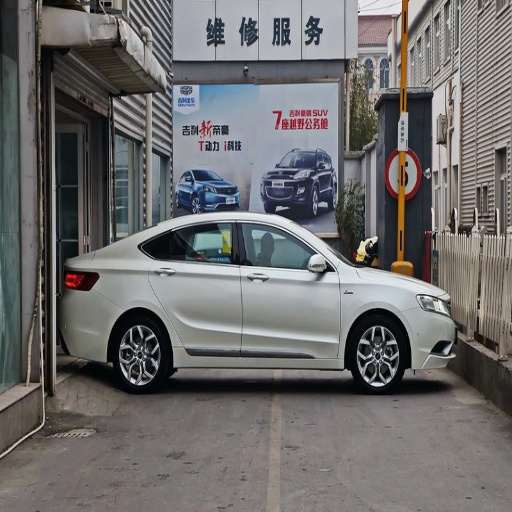back_right_door: (149, 219, 240, 354)
front_right_door: (239, 220, 340, 356)
